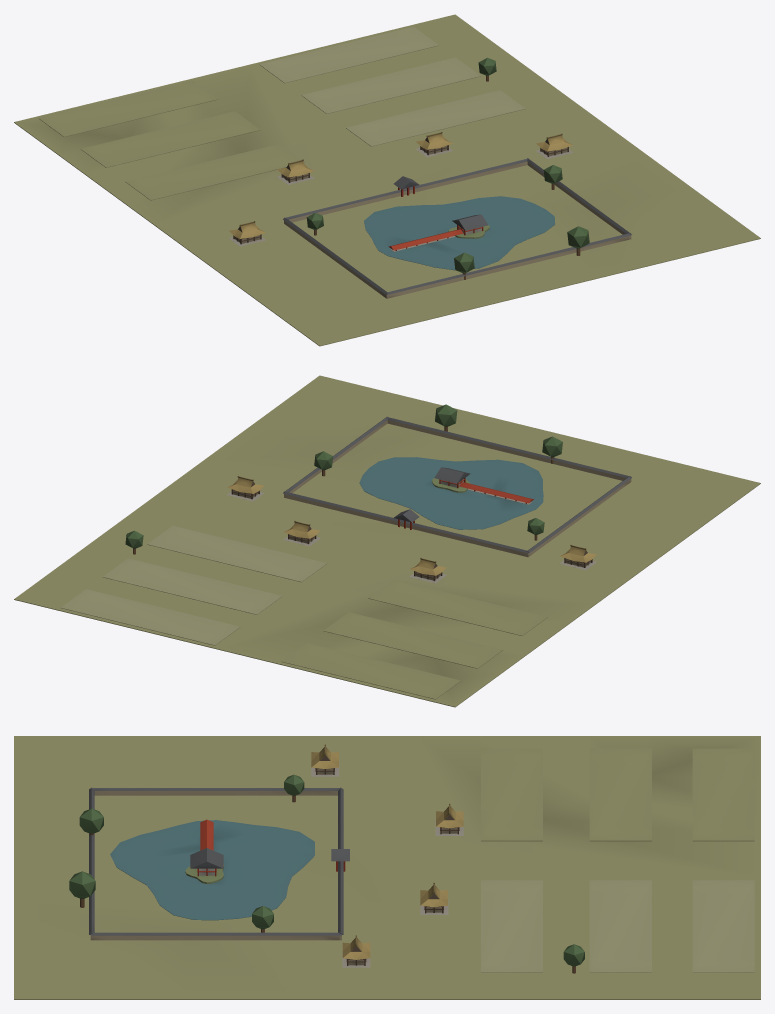
Rendered from shinsen-en-small.glb.
3 views of the same model, one above another, from view 1: azimuth 30°, elevation 25°; view 2: azimuth 150°, elevation 25°; view 3: azimuth 270°, elevation 25° (orthographic). The views are drawn at different scales.
Visible parts, largest first — view 1: p0_grounds, p1_halls, p2_roofs; view 2: p0_grounds, p1_halls, p2_roofs; view 3: p0_grounds, p1_halls, p2_roofs.
Part boxes in pixels (box(x1,y1,x2,y2)): p0_grounds: box(14, 14, 760, 346); p1_halls: box(229, 57, 589, 279); p2_roofs: box(229, 131, 572, 238); p0_grounds: box(14, 375, 760, 707); p1_halls: box(125, 404, 596, 583); p2_roofs: box(227, 467, 596, 575); p0_grounds: box(14, 736, 760, 999); p1_halls: box(69, 761, 584, 973); p2_roofs: box(190, 744, 463, 959).
Bounding box in the file's own units: 200 × 12.95 × 240.
